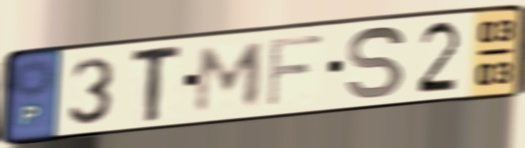2: (416, 18, 465, 97)
3: (66, 54, 117, 127)
F: (263, 31, 327, 111)
M: (191, 39, 269, 116)
S: (344, 23, 409, 102)
T: (129, 41, 187, 126)
